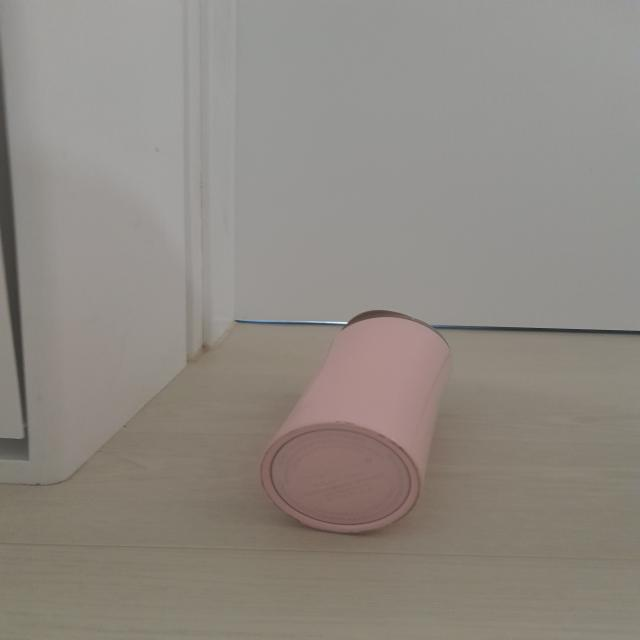waterbottle: (271, 308, 448, 534)
